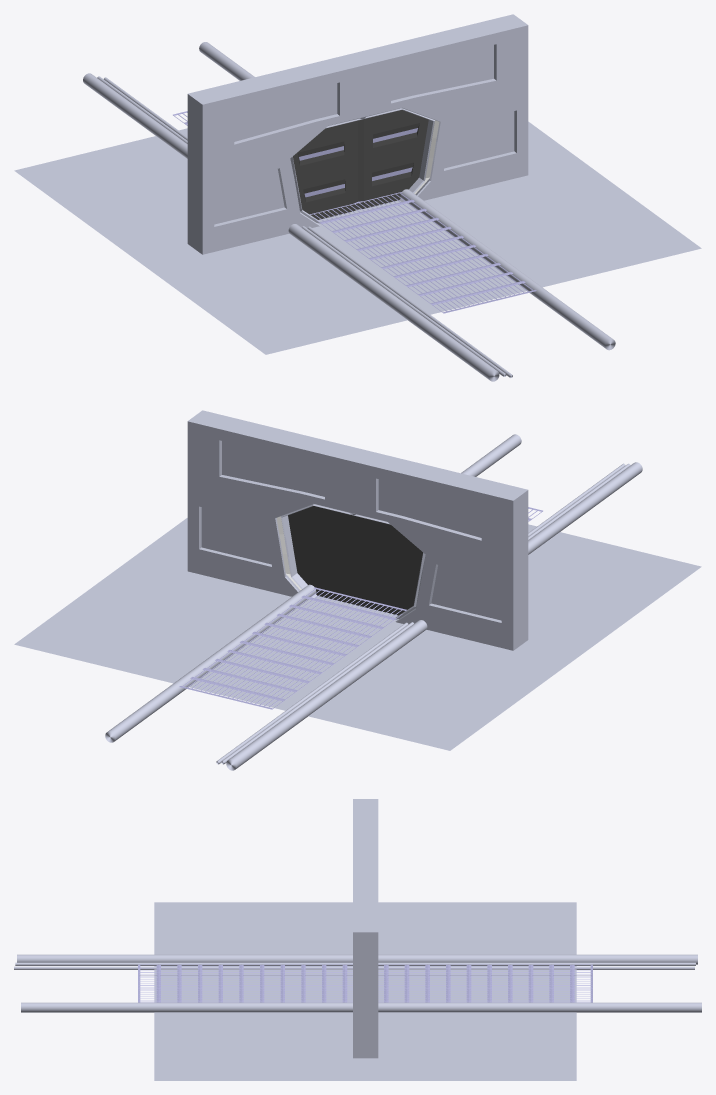
The model's file is Futuristic Door.fbx.
The picture shows the model from 3 angles, top to bottom: view 1: azimuth 30°, elevation 25°; view 2: azimuth 150°, elevation 25°; view 3: azimuth 270°, elevation 25°; orthographic projection. The views are drawn at different scales.
Parts seen in each view (by area): view 1: Plane.002, Plane, Door Copy, Plane.003, Cylinder.001, Cylinder, Door, Cylinder.002, Cylinder.003, Door.001; view 2: Plane.002, Plane, Plane.003, Door Copy, Cylinder.001, Door, Cylinder, Cylinder.002, Cylinder.003; view 3: Plane.002, Plane.003, Cylinder, Plane, Cylinder.001, Cylinder.003, Cylinder.002.
Boxes of the visible parts, bbox=[...] form: Plane.002: bbox=[14, 121, 701, 354]; Plane: bbox=[187, 14, 528, 254]; Door Copy: bbox=[293, 114, 428, 219]; Plane.003: bbox=[173, 111, 536, 313]; Cylinder.001: bbox=[83, 73, 499, 381]; Cylinder: bbox=[199, 42, 615, 350]; Door: bbox=[296, 122, 353, 219]; Cylinder.002: bbox=[104, 77, 512, 377]; Cylinder.003: bbox=[97, 76, 506, 376]; Door.001: bbox=[367, 110, 417, 180]; Plane.002: bbox=[14, 518, 701, 750]; Plane: bbox=[187, 410, 528, 650]; Plane.003: bbox=[179, 507, 542, 709]; Door Copy: bbox=[288, 509, 419, 607]; Cylinder.001: bbox=[226, 462, 642, 770]; Door: bbox=[358, 517, 422, 615]; Cylinder: bbox=[105, 434, 521, 742]; Cylinder.002: bbox=[216, 463, 625, 764]; Cylinder.003: bbox=[221, 463, 630, 764]; Plane.002: bbox=[154, 902, 576, 1080]; Plane.003: bbox=[138, 964, 592, 1002]; Cylinder: bbox=[21, 1002, 701, 1012]; Plane: bbox=[353, 799, 378, 1058]; Cylinder.001: bbox=[17, 954, 697, 964]; Cylinder.003: bbox=[15, 962, 695, 965]; Cylinder.002: bbox=[14, 966, 694, 969].
Bounding box in the file's own units: 2000 × 668 × 3258.
